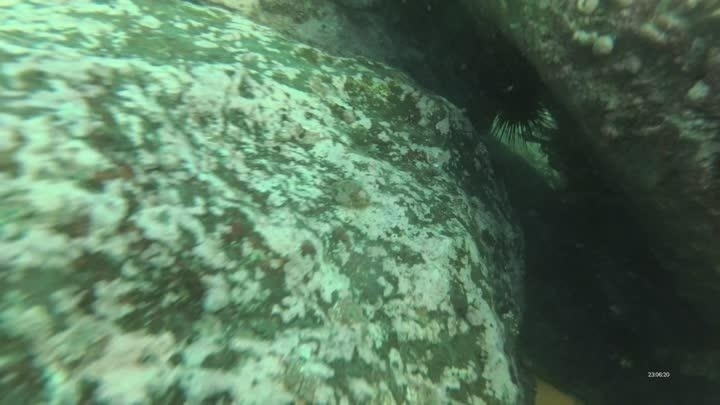echinus: (485, 76, 554, 144)
